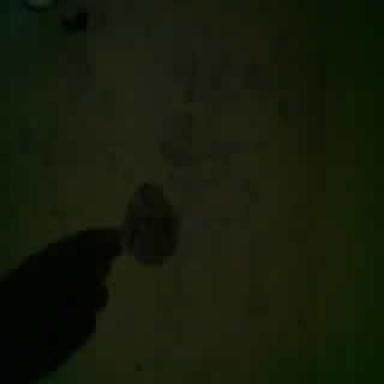paper: (125, 186, 179, 264)
